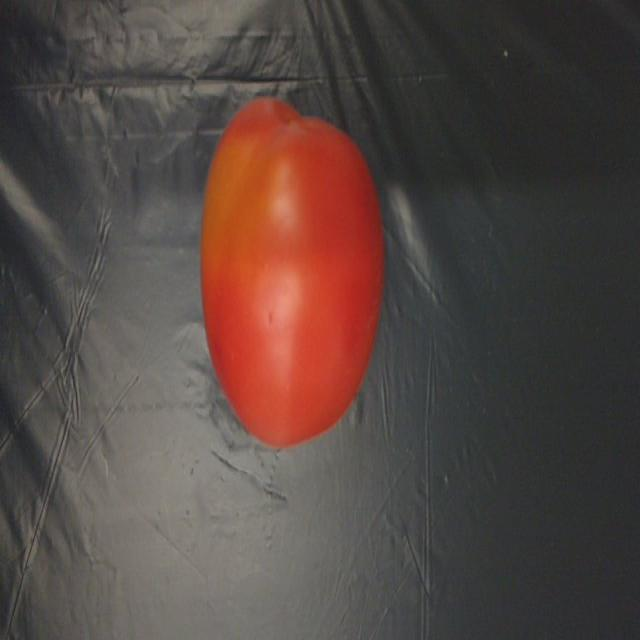kirmizi: (196, 82, 387, 444)
